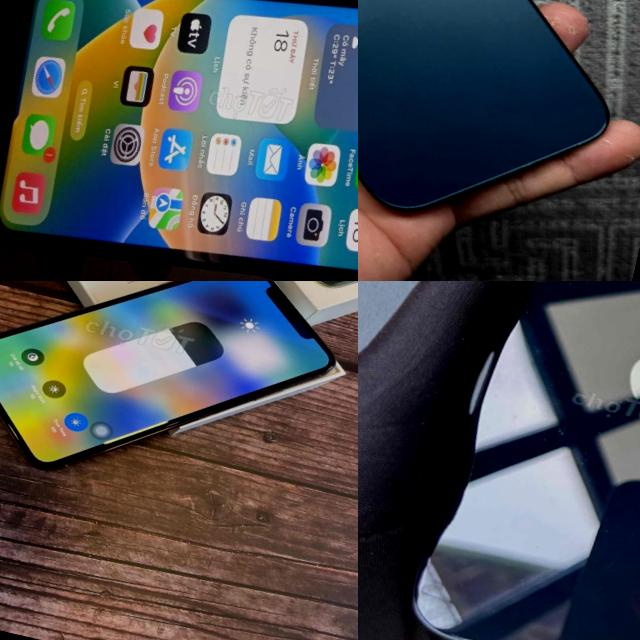scratch: (498, 281, 589, 338)
